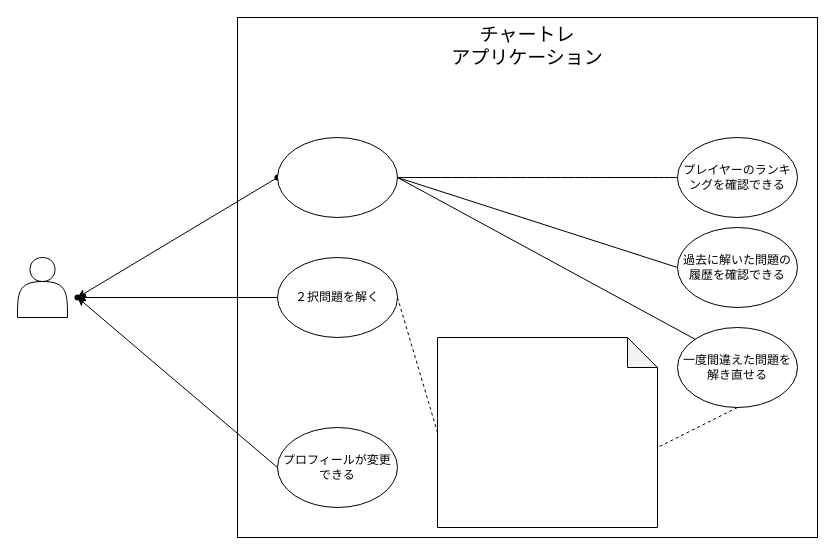
The diagram is 835 pixels wide and 555 high, and some of its shapes have lost their labels. Here are the shapes that lost their labels. From the top down, the centre of each, then its label:
pixel 337 177: ログインする
pixel 42 287: ユーザー
pixel 547 432: 問題を出題する（5問程度） 正解が不正解か判定する 結果に応じてまるばつ表示 正答率を表示
